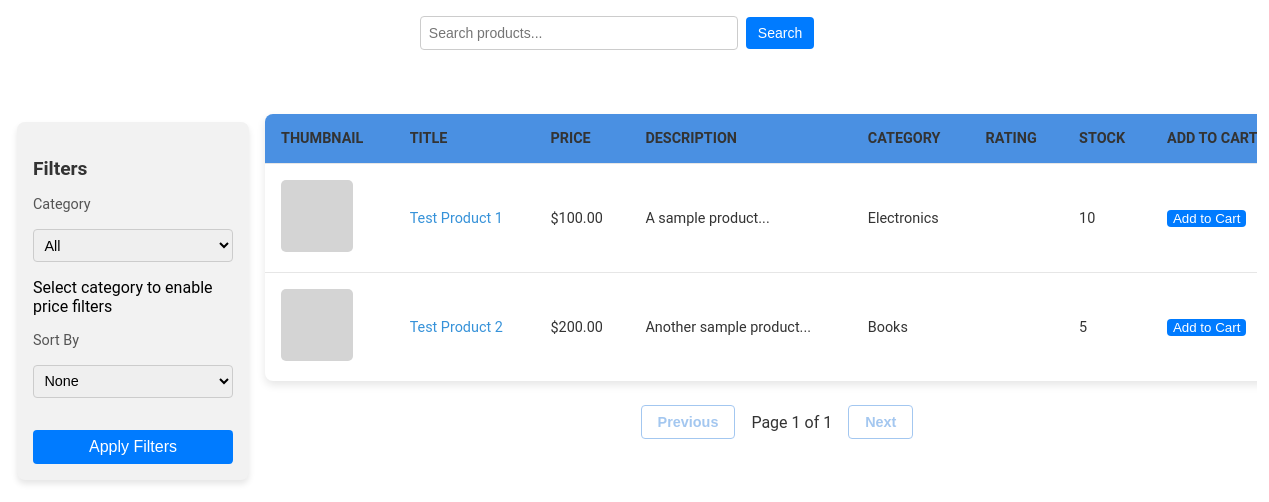
Products View › handles product search
Type "Test Product 2" into the field with placeholder "Search products...".
click(579, 33); type("Test Product 2")  # box x1=420 y1=16 x2=738 y2=50
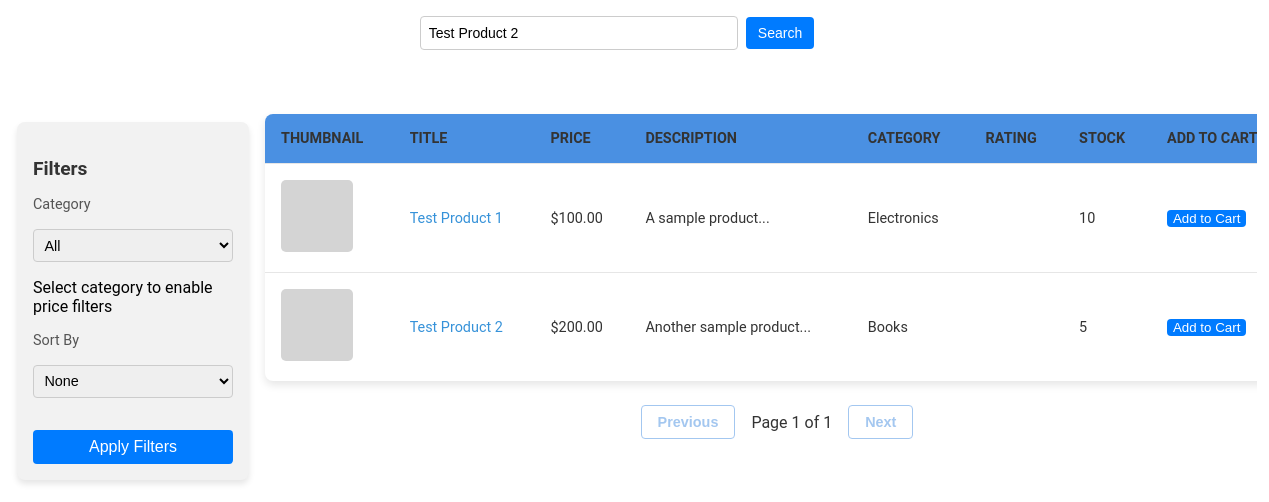
Click the button "Search".
click(780, 33)  # box x1=746 y1=17 x2=814 y2=49
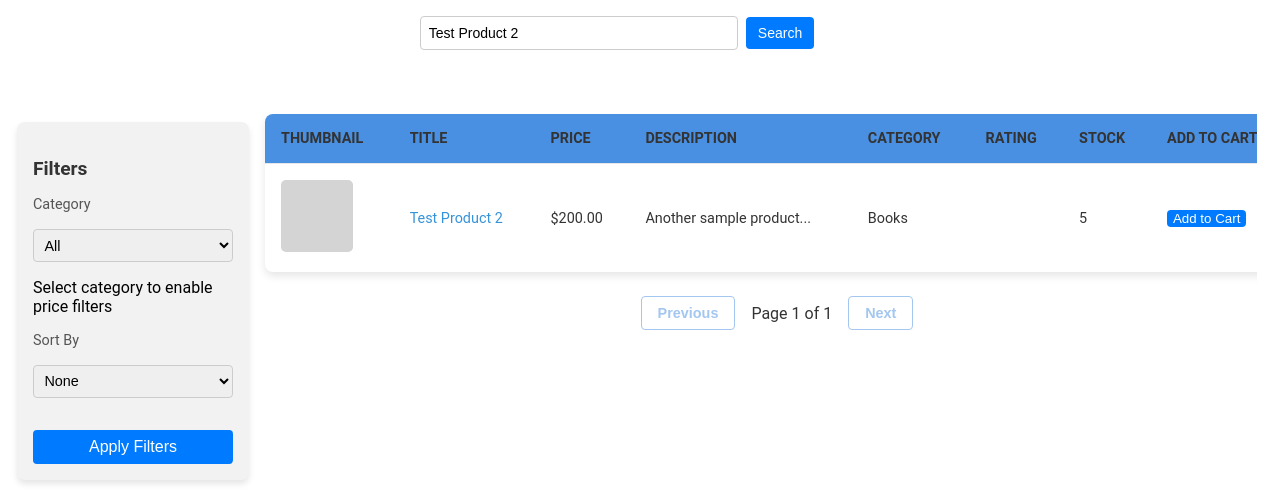
Expected: the link "Test Product 2" is shown, x1=410 y1=210 x2=503 y2=226
Now the link "Test Product 1" is gone
